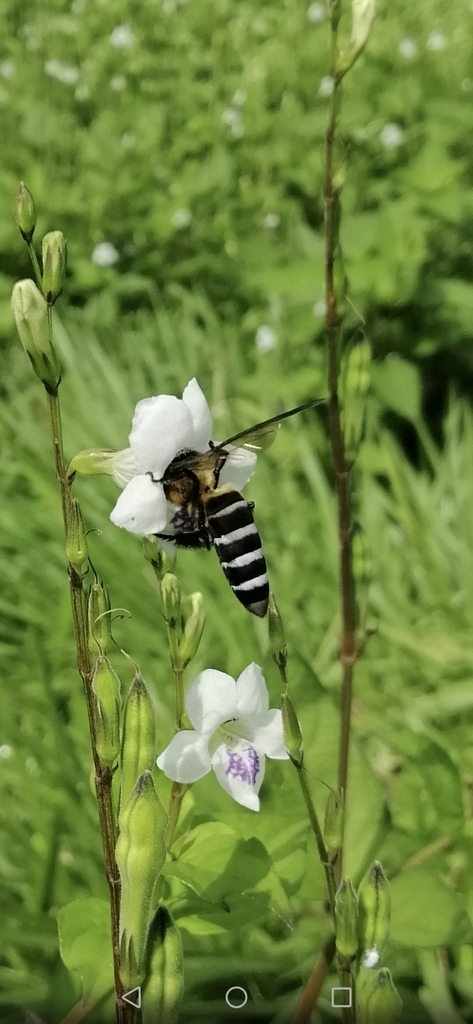not_bumblebee: (144, 398, 323, 620)
